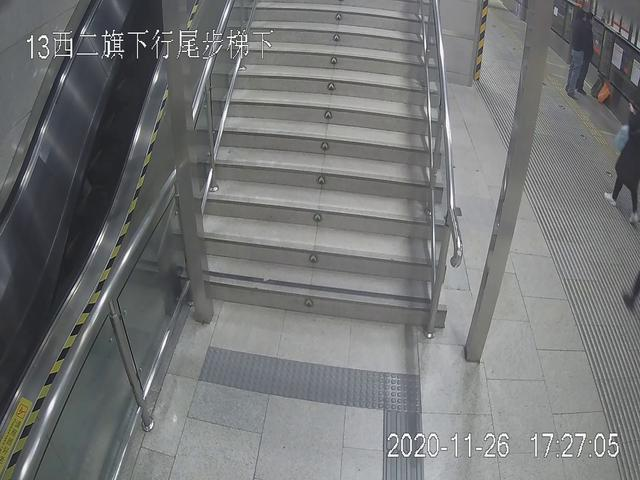person: (564, 7, 595, 100)
